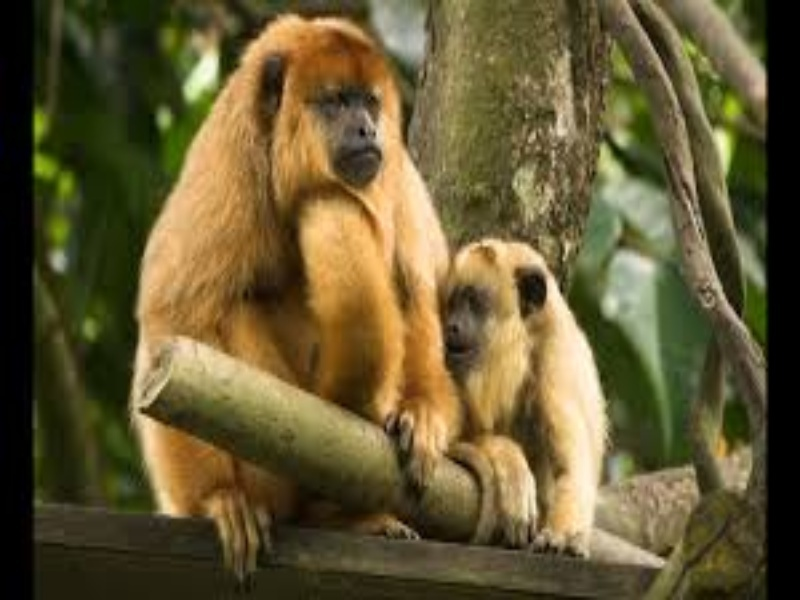monkey: (135, 21, 440, 599), (438, 236, 617, 564)
